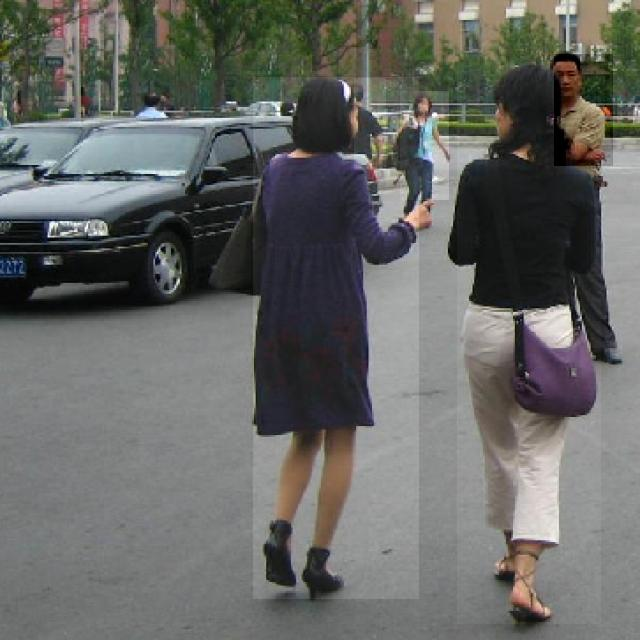with scooter: (253, 77, 419, 599), (457, 62, 601, 624), (554, 55, 613, 166), (400, 91, 449, 200), (354, 78, 386, 170), (130, 91, 181, 118)
